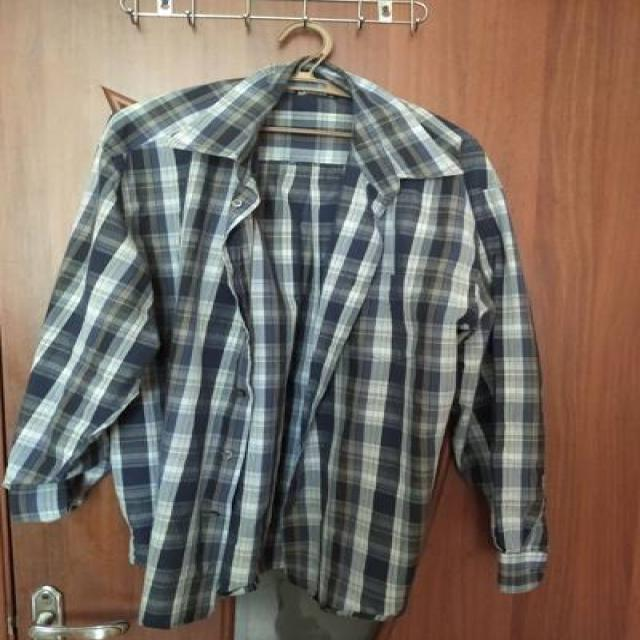Clothes -Biodegradable-: (4, 58, 546, 628)
